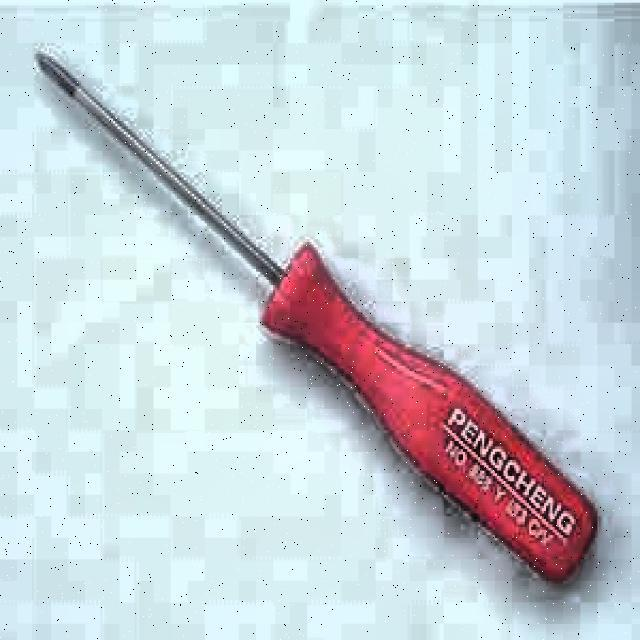screwdriver: (36, 52, 598, 588)
